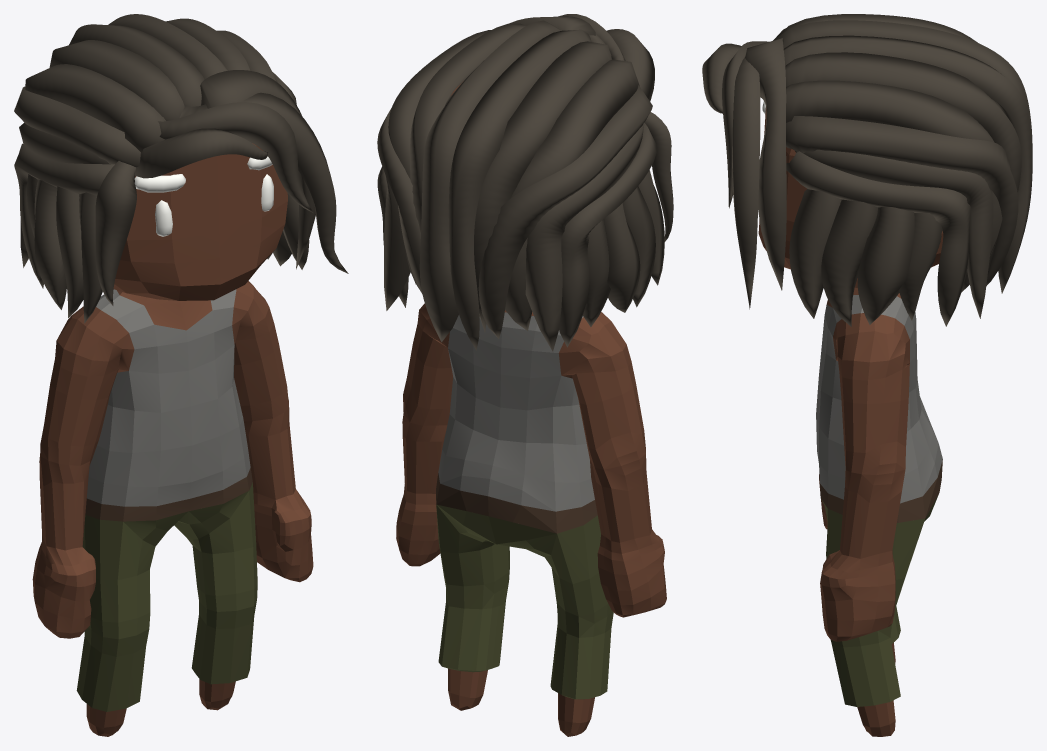
The model's file is debout-casual3-female.glb.
3 renders of one model, left to right at view 1: azimuth 30°, elevation 25°; view 2: azimuth 150°, elevation 25°; view 3: azimuth 270°, elevation 25°, orthographic. The views are drawn at different scales.
Visible parts, largest first — view 1: Cube004_5, Cube004, Cube004_1, Cube004_2, Cube004_3, Cube004_4; view 2: Cube004_5, Cube004, Cube004_1, Cube004_2, Cube004_3; view 3: Cube004_5, Cube004, Cube004_1, Cube004_2, Cube004_3.
Part boxes in pixels (bbox=[...]): Cube004_5: bbox=[14, 14, 348, 323]; Cube004: bbox=[32, 143, 313, 736]; Cube004_1: bbox=[87, 289, 250, 506]; Cube004_2: bbox=[76, 482, 257, 711]; Cube004_3: bbox=[85, 468, 252, 521]; Cube004_4: bbox=[134, 156, 273, 236]; Cube004_5: bbox=[377, 14, 673, 351]; Cube004: bbox=[396, 81, 666, 736]; Cube004_1: bbox=[438, 312, 594, 511]; Cube004_2: bbox=[436, 504, 613, 699]; Cube004_3: bbox=[436, 473, 597, 533]; Cube004_5: bbox=[702, 14, 1032, 326]; Cube004: bbox=[758, 106, 943, 736]; Cube004_1: bbox=[816, 295, 942, 503]; Cube004_2: bbox=[821, 494, 938, 706]; Cube004_3: bbox=[820, 459, 942, 522].
Bounding box in the file's own units: 0.6723 × 1.65 × 0.7269.
